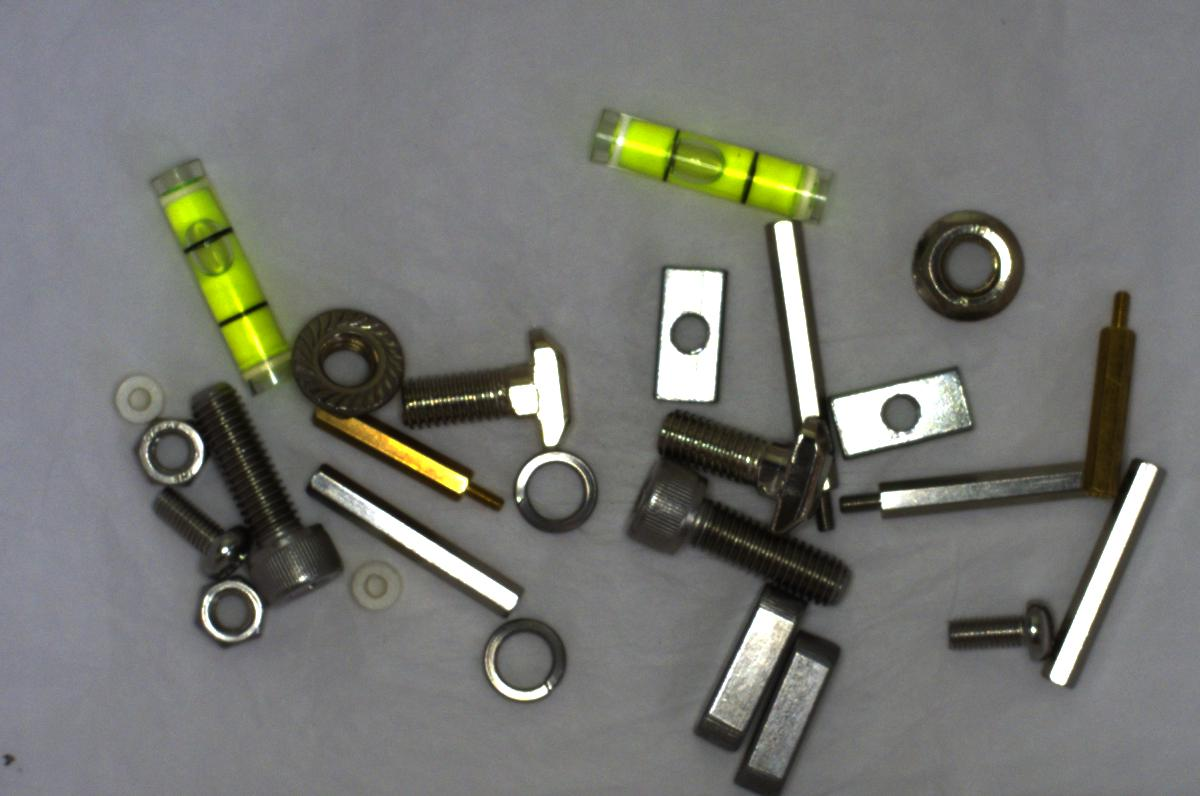Double hexagonal column: (296, 460, 532, 622), (1029, 446, 1166, 696)
Flange nut: (891, 190, 1034, 333), (282, 305, 420, 422)
Hexagon nut: (116, 412, 214, 491), (196, 565, 273, 655)
Hexagon pillar: (308, 406, 506, 506), (1084, 278, 1138, 498)
Hexagon screw: (185, 378, 350, 606), (612, 469, 864, 609)
Hexagonal steel column: (758, 210, 835, 540), (826, 456, 1098, 522)
Horizontal bubble: (141, 156, 297, 399), (571, 105, 844, 223)
Keybar: (735, 618, 851, 790), (694, 576, 808, 749)
Plastic cushion pillar: (341, 556, 411, 613), (102, 365, 167, 424)
Rectangular nut: (825, 358, 976, 459), (647, 256, 735, 408)
Round head screw: (141, 492, 264, 583), (938, 576, 1056, 668)
Spring washer: (479, 606, 575, 717), (505, 444, 603, 545)
T-shaped screw: (648, 403, 842, 550), (396, 324, 584, 454)
